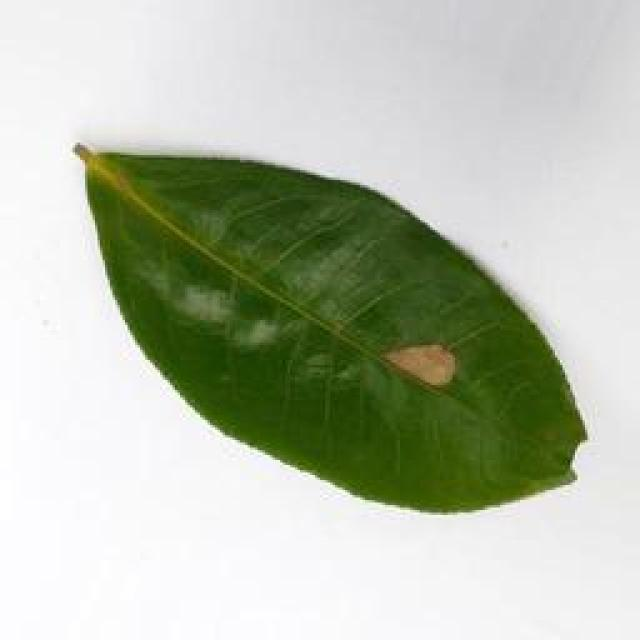Gray Blight: (66, 142, 587, 515)
